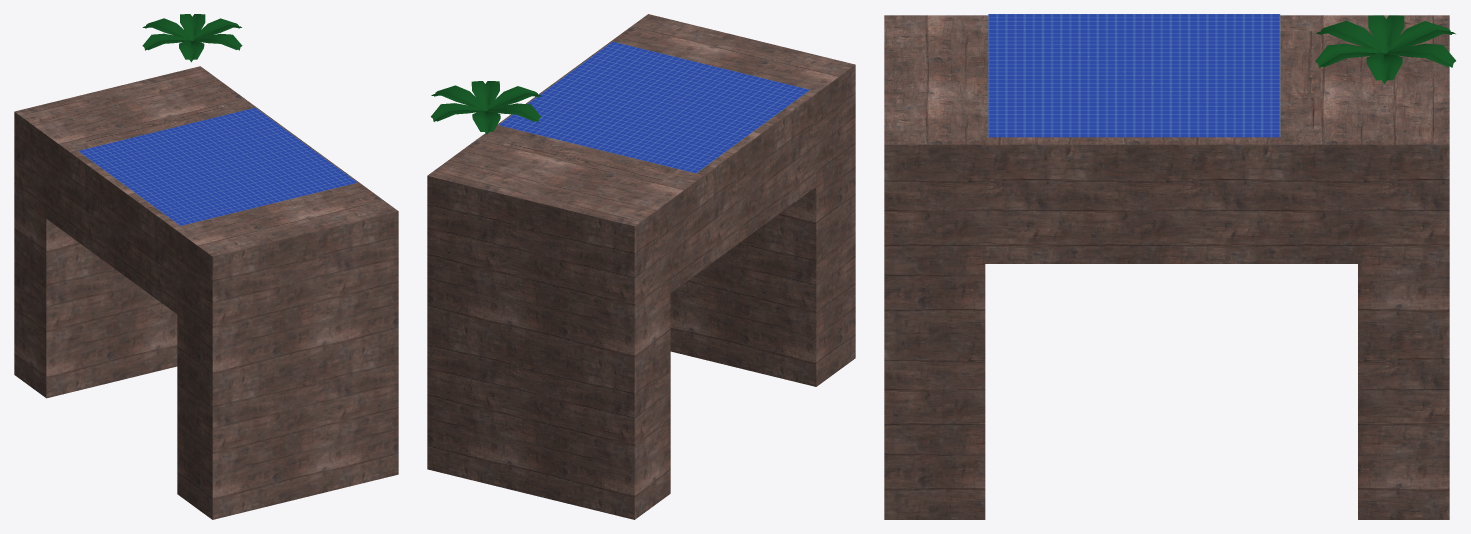
File: stalas.glb
The picture shows the model from 3 angles, left to right: view 1: azimuth 30°, elevation 25°; view 2: azimuth 150°, elevation 25°; view 3: azimuth 270°, elevation 25°; orthographic projection. The views are drawn at different scales.
Parts seen in each view (by area): view 1: Stalas, Bake_blueprint, Gele.001; view 2: Stalas, Bake_blueprint, Gele.001; view 3: Stalas, Bake_blueprint, Gele.001.
Part boxes in pixels (x1,y1,x2,y2): Stalas: [14, 66, 398, 519]; Bake_blueprint: [78, 107, 357, 225]; Gele.001: [142, 14, 242, 62]; Stalas: [427, 14, 855, 519]; Bake_blueprint: [498, 41, 809, 173]; Gele.001: [431, 81, 541, 134]; Stalas: [884, 15, 1449, 519]; Bake_blueprint: [988, 14, 1280, 137]; Gele.001: [1315, 15, 1455, 83].
Size of the model in its own units: 1.18 by 1.79 by 2.02.
3 materials, 3 textured.
